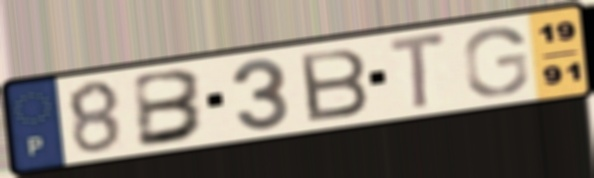3: (229, 56, 291, 133)
8: (66, 79, 126, 157)
B: (131, 67, 209, 151), (295, 45, 372, 125)
G: (460, 24, 532, 98)
T: (385, 28, 451, 114)
